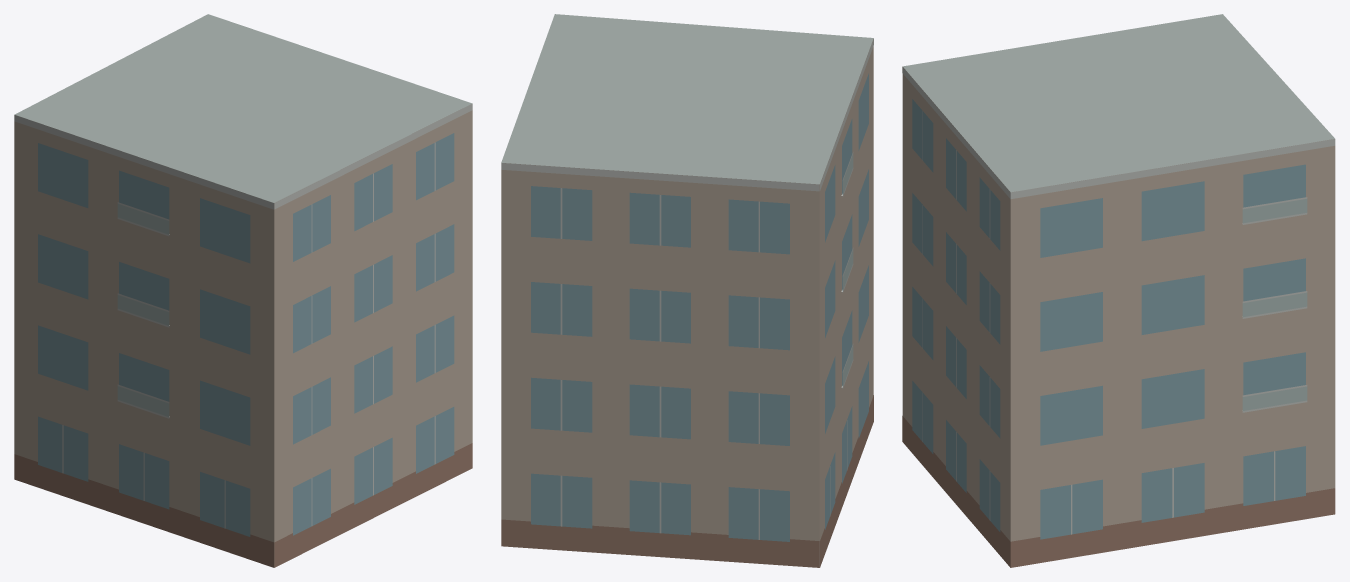
File: survey-upis-32853975.glb
The picture shows the model from 3 angles, left to right: view 1: azimuth 30°, elevation 25°; view 2: azimuth 150°, elevation 25°; view 3: azimuth 270°, elevation 25°; orthographic projection. The views are drawn at different scales.
Visible parts, largest first — view 1: survey-upis-32853975.tmp; view 2: survey-upis-32853975.tmp; view 3: survey-upis-32853975.tmp.
Part boxes in pixels (x1,y1,x2,y2): survey-upis-32853975.tmp: [14, 14, 472, 567]; survey-upis-32853975.tmp: [501, 14, 873, 567]; survey-upis-32853975.tmp: [902, 14, 1335, 567].
Size of the model in its own units: 13.61 by 13.35 by 13.96.
